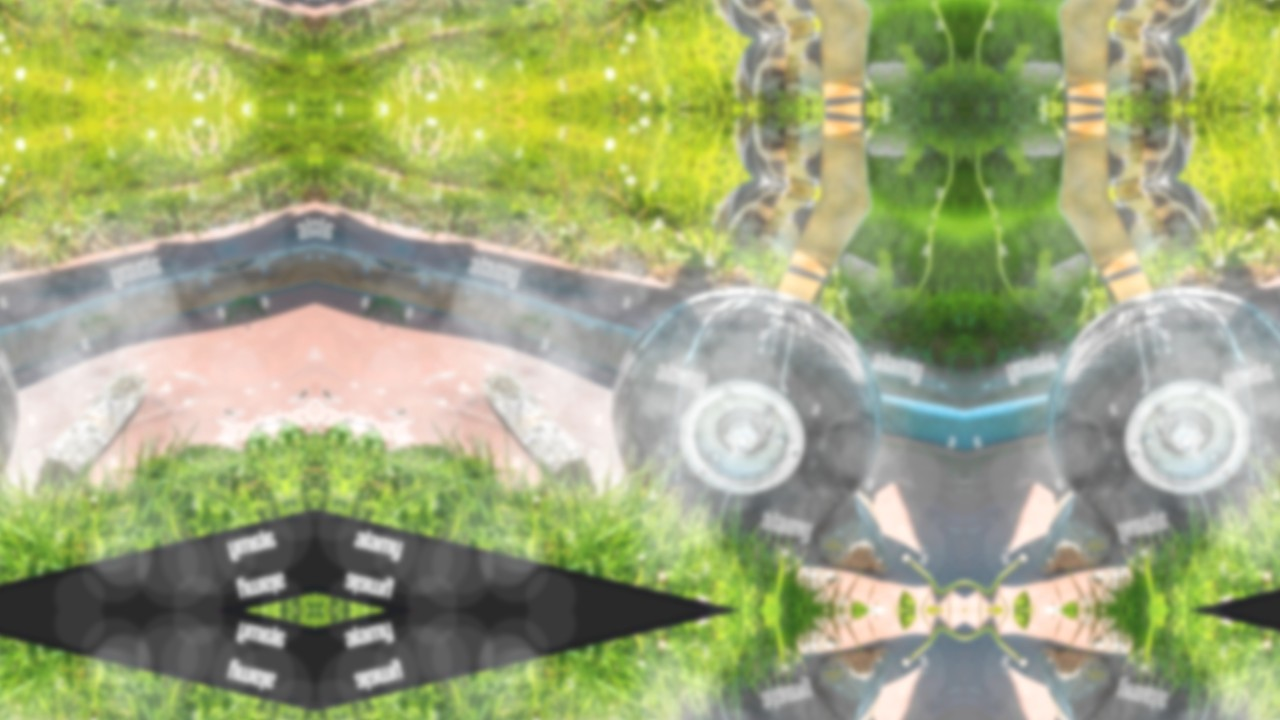chock: (17, 356, 168, 492), (462, 356, 613, 492), (809, 472, 909, 581), (1021, 472, 1121, 581), (809, 640, 909, 720), (1021, 640, 1121, 720)
wheel: (588, 260, 909, 558), (1021, 260, 1280, 558), (588, 663, 909, 720), (1021, 663, 1280, 720), (0, 260, 42, 558)
